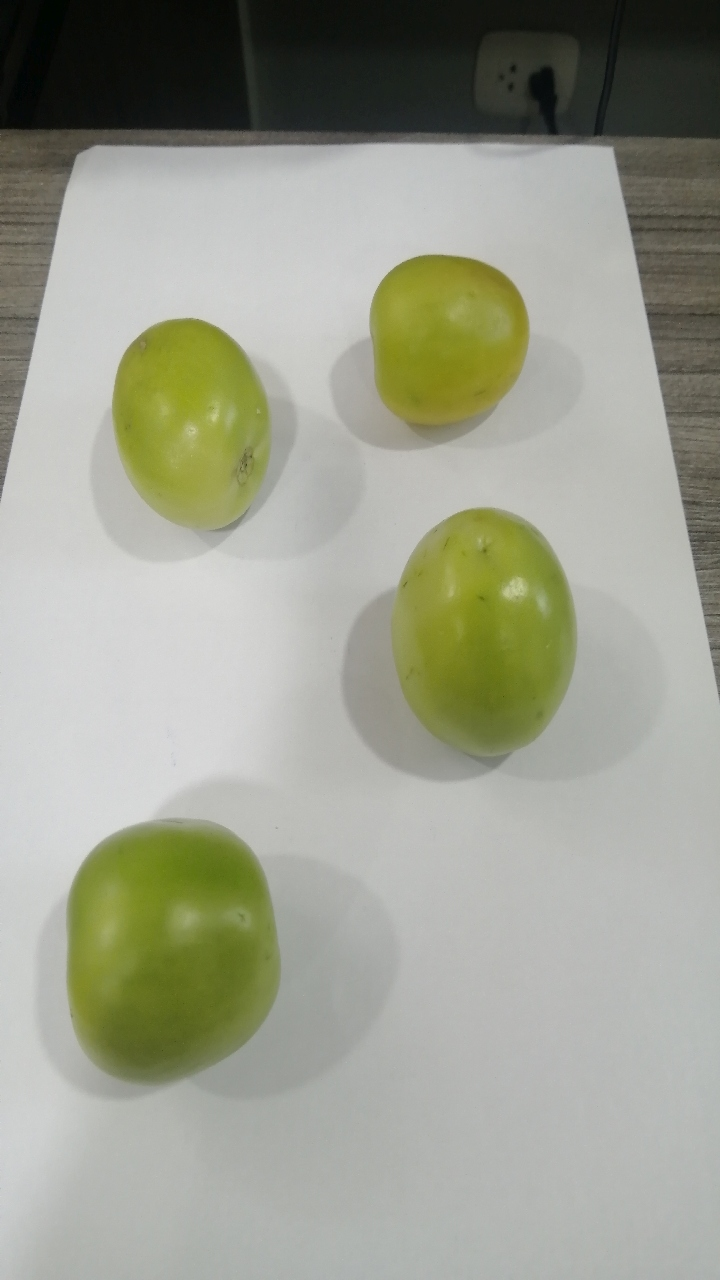tomateVerde: (54, 795, 335, 1117), (355, 489, 594, 785), (97, 288, 292, 555), (351, 237, 577, 460)
